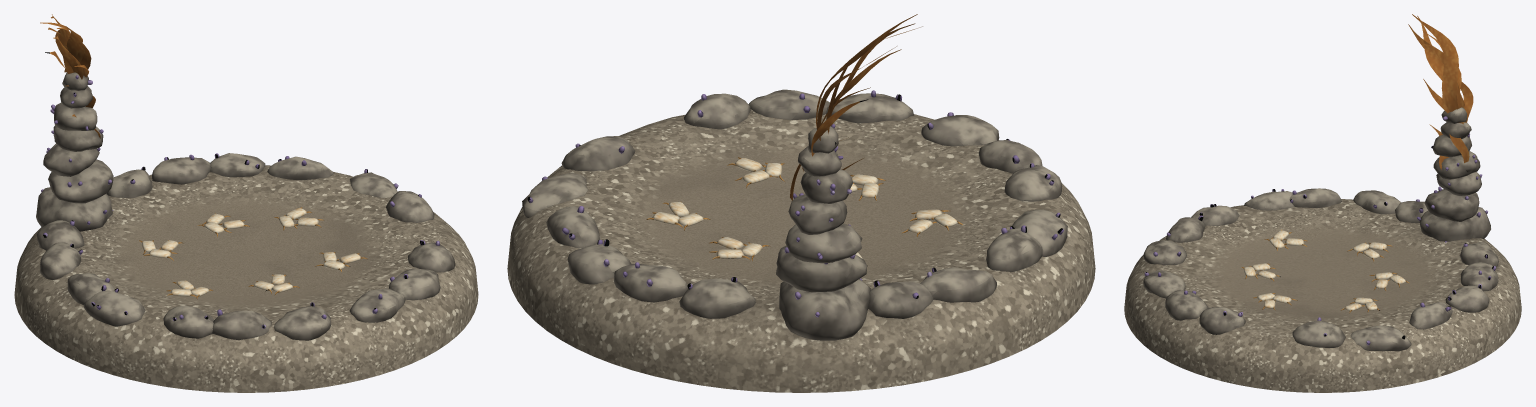
File: aquatic_nest.glb
3 renders of one model, left to right at view 1: azimuth 30°, elevation 25°; view 2: azimuth 150°, elevation 25°; view 3: azimuth 270°, elevation 25°, orthographic. The views are drawn at different scales.
Visible parts, largest first — view 1: NestMound, NestRim, Beacon, BeaconDetail, NestPolyps, Clutch_2, Clutch_1, Clutch_3, Clutch_6, Clutch_5, Clutch_4; view 2: NestMound, NestRim, Beacon, BeaconDetail, NestPolyps, Clutch_6, Clutch_1, Clutch_2, Clutch_4, Clutch_5; view 3: NestMound, NestRim, Beacon, BeaconDetail, NestPolyps, Clutch_3, Clutch_4, Clutch_5, Clutch_1, Clutch_6.
Boxes of the visible parts, box(x1,y1,x2,y2) form: NestMound: box(14, 165, 478, 392); NestRim: box(37, 153, 455, 340); Beacon: box(36, 72, 113, 231); BeaconDetail: box(40, 14, 113, 224); NestPolyps: box(43, 153, 439, 328); Clutch_2: box(274, 207, 323, 230); Clutch_1: box(197, 213, 249, 237); Clutch_3: box(139, 240, 183, 260); Clutch_6: box(315, 252, 367, 271); Clutch_5: box(248, 274, 299, 294); Clutch_4: box(166, 280, 212, 299); NestMound: box(507, 109, 1095, 392); NestRim: box(522, 89, 1067, 318); Beacon: box(776, 126, 870, 340); BeaconDetail: box(784, 14, 922, 317); NestPolyps: box(527, 90, 1063, 298); Clutch_6: box(727, 157, 784, 188); Clutch_1: box(709, 237, 770, 261); Clutch_2: box(646, 201, 710, 230); Clutch_4: box(901, 209, 962, 236); Clutch_5: box(850, 174, 885, 200); NestMound: box(1124, 199, 1521, 392); NestRim: box(1143, 188, 1498, 351); Beacon: box(1419, 107, 1490, 241); BeaconDetail: box(1408, 14, 1487, 242); NestPolyps: box(1144, 189, 1496, 345); Clutch_3: box(1347, 242, 1392, 261); Clutch_4: box(1264, 229, 1307, 250); Clutch_5: box(1241, 263, 1280, 281); Clutch_1: box(1369, 272, 1409, 290); Clutch_6: box(1253, 293, 1297, 310).
Size of the model in its own units: 9.2 by 6 by 9.2.
1 material, 1 textured.
